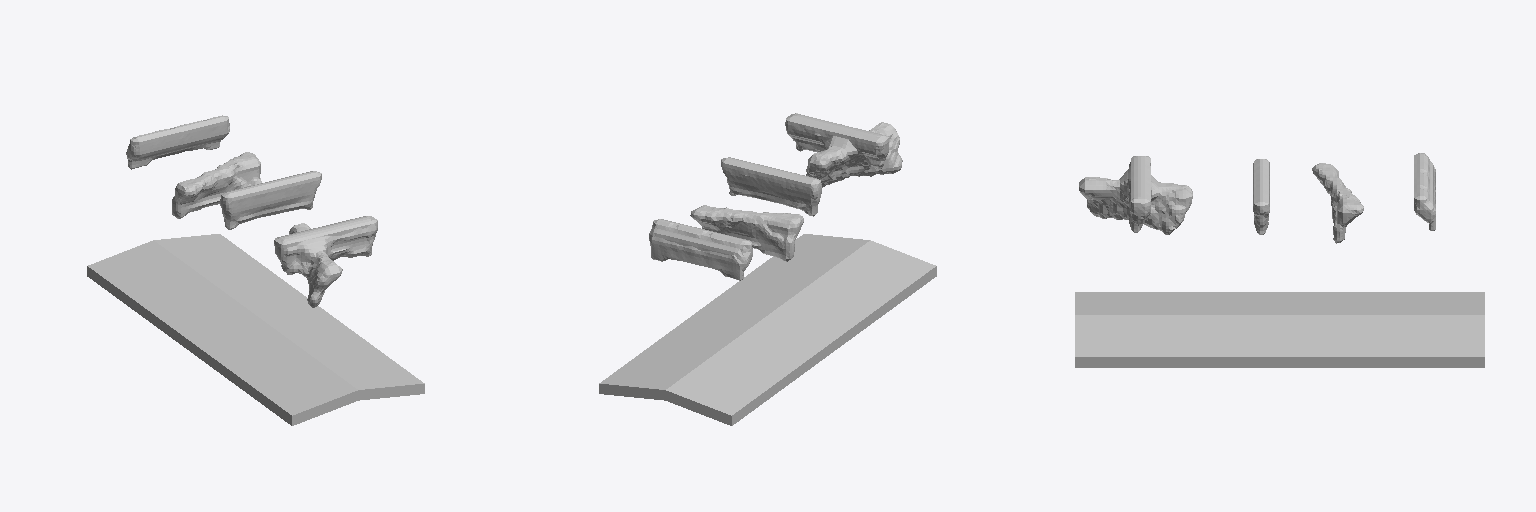
The model's file is Watersim_000009.obj.
3 renders of one model, left to right at view 1: azimuth 30°, elevation 25°; view 2: azimuth 150°, elevation 25°; view 3: azimuth 270°, elevation 25°, orthographic.
Parts seen in each view (by area): view 1: Straße_Cube.007, Domain_Cube.006; view 2: Straße_Cube.007, Domain_Cube.006; view 3: Straße_Cube.007, Domain_Cube.006.
Part boxes in pixels (left/top/right/bottom): Straße_Cube.007: left=87, top=234, right=424, bottom=425; Domain_Cube.006: left=126, top=115, right=377, bottom=307; Straße_Cube.007: left=599, top=234, right=936, bottom=425; Domain_Cube.006: left=649, top=113, right=902, bottom=280; Straße_Cube.007: left=1075, top=292, right=1484, bottom=367; Domain_Cube.006: left=1079, top=153, right=1435, bottom=243.
Bounding box in the file's own units: 2.26 × 2.59 × 6.06.